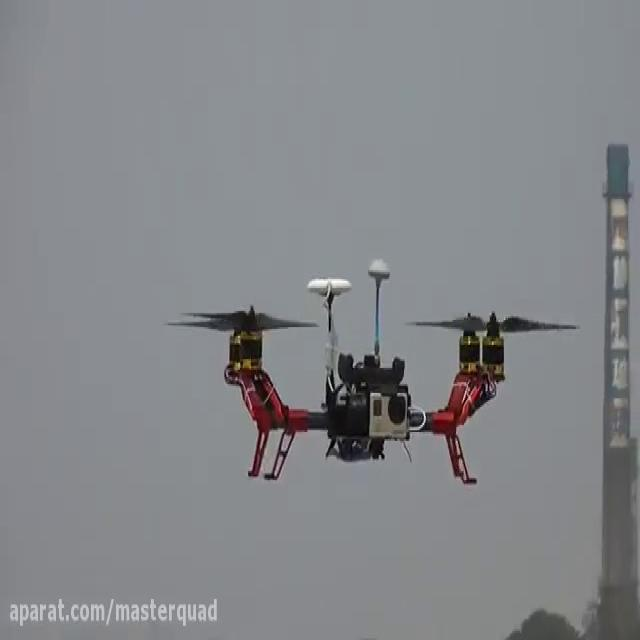drone: (163, 254, 584, 489)
